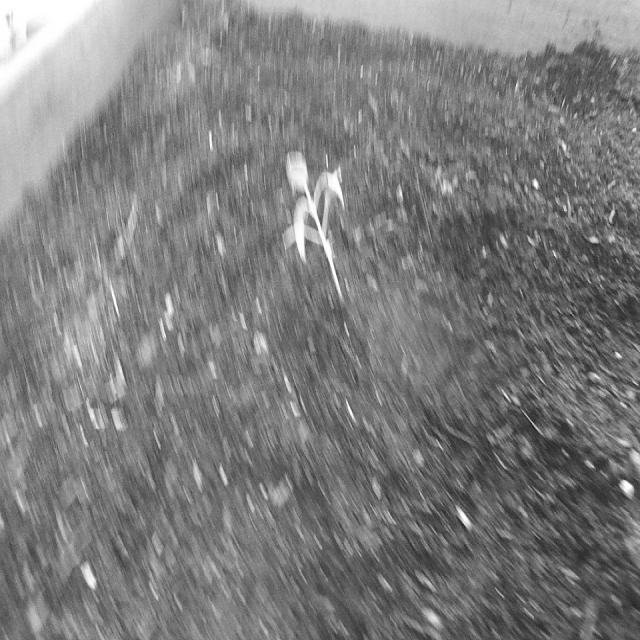Unhealthy: (278, 147, 354, 312)
